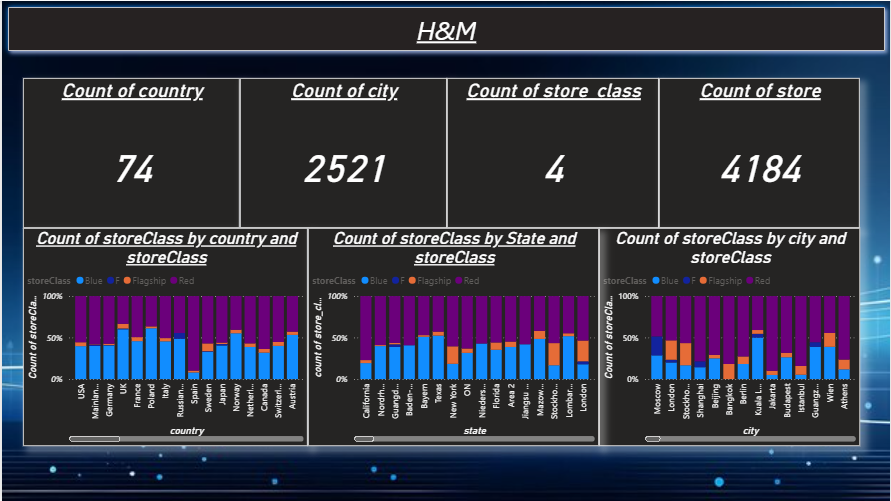

This screenshot's page, from the dashboard's own definition file:
{"tool":"powerbi","page":{"name":"Page 1","canvas":[1280,720],"ordinal":0},"visuals":[{"type":"shape","box":[0,0,1280.2,80.6],"z":0},{"type":"card","title":"Count of country","fields":{"Values":["Count(HM_all_stores.country)"]},"box":[30.2,110.9,312.5,216],"z":1000},{"type":"card","title":"Count of city","fields":{"Values":["Count(HM_all_stores.city)"]},"box":[342.7,110.9,298.1,216],"z":2000},{"type":"card","title":"Count of store_class","fields":{"Values":["Count(HM_all_stores.storeClass)"]},"box":[640.8,110.9,305.3,216],"z":3000},{"type":"card","title":"Count of store","fields":{"Values":["Count(HM_all_stores.name)"]},"box":[946.1,110.9,289.4,216],"z":4000},{"type":"hundredPercentStackedColumnChart","fields":{"Category":["HM_all_stores.country"],"Series":["HM_all_stores.storeClass"],"Y":["CountNonNull(HM_all_stores.storeClass)"]},"box":[30.2,326.9,410.4,313.9],"z":5000},{"type":"hundredPercentStackedColumnChart","fields":{"Category":["HM_all_stores.city"],"Series":["HM_all_stores.storeClass"],"Y":["CountNonNull(HM_all_stores.storeClass)"]},"box":[859.7,326.9,375.8,313.9],"z":6000},{"type":"hundredPercentStackedColumnChart","title":"Count of storeClass by State and storeClass","fields":{"Category":["HM_all_stores.State_filter"],"Series":["HM_all_stores.storeClass"],"Y":["CountNonNull(HM_all_stores.storeClass)"]},"box":[440.6,326.9,419,313.9],"z":7000}]}

Visuals, with their boxes in screenshot pixels (x1, y1, x2, y2), scaled from the page's 1280x720 canvas onto the 891x501 screenshot:
shape: pyautogui.locateOnScreen(0, 0, 890, 56)
"Count of country" card: pyautogui.locateOnScreen(21, 77, 239, 227)
"Count of city" card: pyautogui.locateOnScreen(239, 77, 446, 227)
"Count of store_class" card: pyautogui.locateOnScreen(446, 77, 659, 227)
"Count of store" card: pyautogui.locateOnScreen(659, 77, 860, 227)
hundredPercentStackedColumnChart - HM_all_stores.country x HM_all_stores.storeClass: pyautogui.locateOnScreen(21, 227, 307, 446)
hundredPercentStackedColumnChart - HM_all_stores.city x HM_all_stores.storeClass: pyautogui.locateOnScreen(598, 227, 860, 446)
"Count of storeClass by State and storeClass" hundredPercentStackedColumnChart: pyautogui.locateOnScreen(307, 227, 598, 446)
